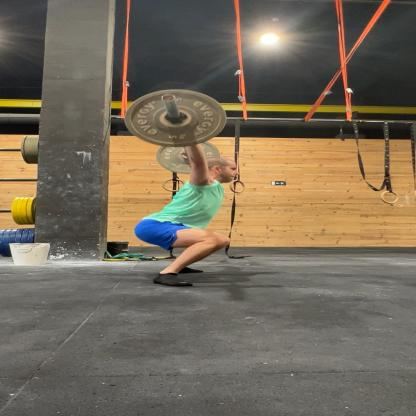barbell: (125, 90, 228, 148)
